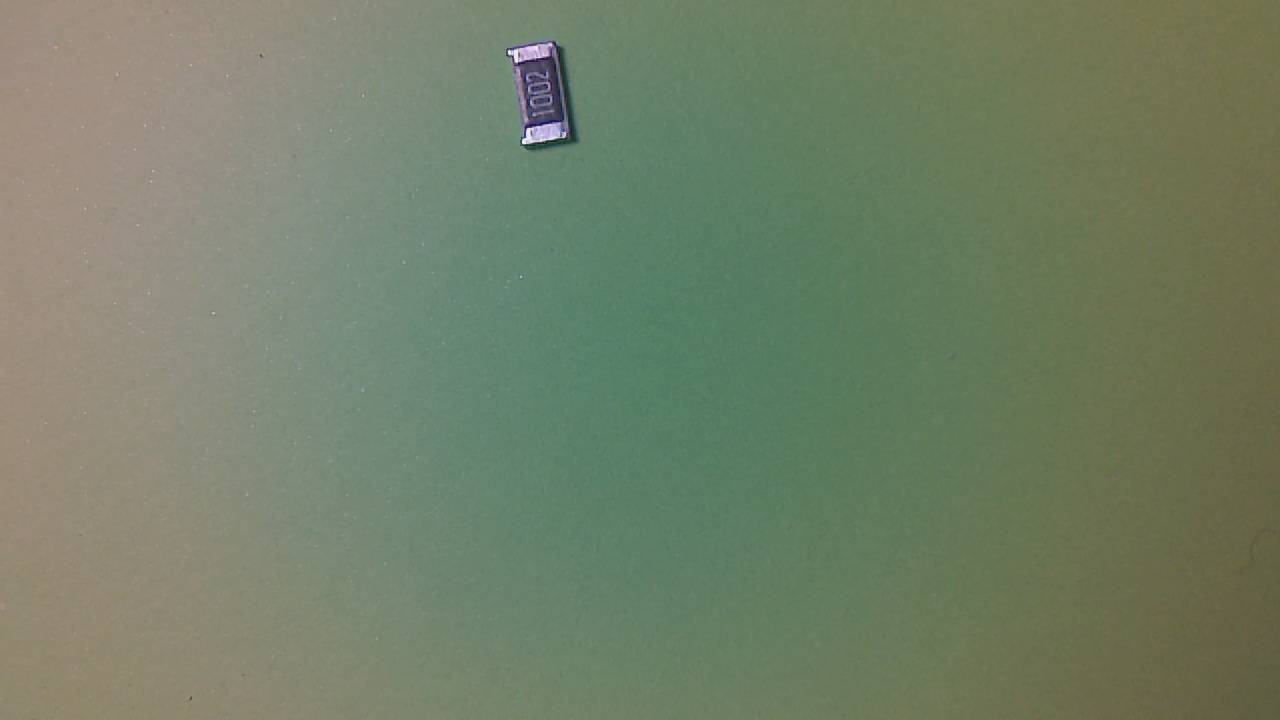Resistor: (503, 38, 589, 160)
